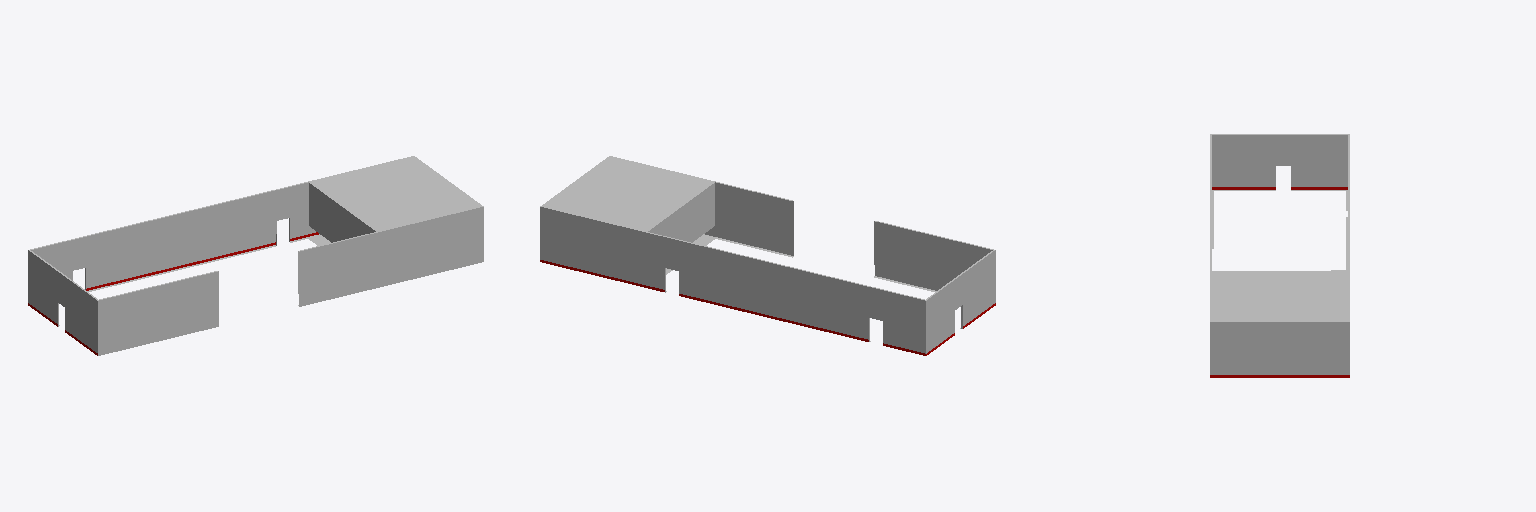
The model's file is SpeakeasyWalls.obj.
3 views of the same model, side by side, from view 1: azimuth 30°, elevation 25°; view 2: azimuth 150°, elevation 25°; view 3: azimuth 270°, elevation 25° (orthographic).
Visible parts, largest first — view 1: Plane.019_Plane.000; view 2: Plane.019_Plane.000; view 3: Plane.019_Plane.000.
Part boxes in pixels (x1,y1,x2,y2): Plane.019_Plane.000: (28, 156, 483, 355); Plane.019_Plane.000: (540, 156, 995, 355); Plane.019_Plane.000: (1210, 134, 1349, 377).
Bounding box in the file's own units: 36.4 × 5 × 11.37.